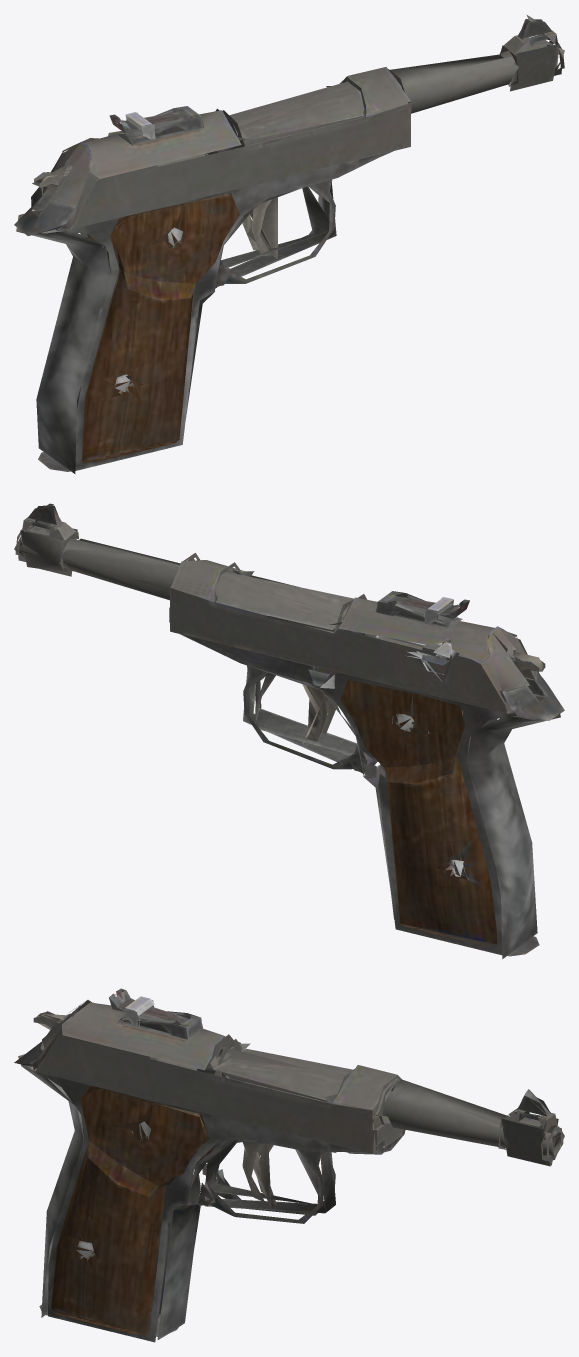
File: service_pistol.glb
The picture shows the model from 3 angles, top to bottom: view 1: azimuth 30°, elevation 25°; view 2: azimuth 150°, elevation 25°; view 3: azimuth 330°, elevation 25°; orthographic projection.
Parts seen in each view (by area): view 1: service_pistol_pistol_a, service_pistol_slide_a, service_pistol_trigger_a; view 2: service_pistol_pistol_a, service_pistol_slide_a, service_pistol_trigger_a; view 3: service_pistol_pistol_a, service_pistol_slide_a, service_pistol_trigger_a.
Part boxes in pixels (<box>): service_pistol_pistol_a: <box>14,15,564,473</box>; service_pistol_slide_a: <box>35,67,411,229</box>; service_pistol_trigger_a: <box>242,197,282,258</box>; service_pistol_pistol_a: <box>14,503,564,959</box>; service_pistol_slide_a: <box>170,553,539,713</box>; service_pistol_trigger_a: <box>294,677,335,743</box>; service_pistol_pistol_a: <box>14,1039,564,1342</box>; service_pistol_slide_a: <box>32,988,405,1154</box>; service_pistol_trigger_a: <box>242,1140,284,1208</box>.
Bounding box in the file's own units: 0.2224 × 0.1303 × 0.0319.
1 material, 1 textured.
